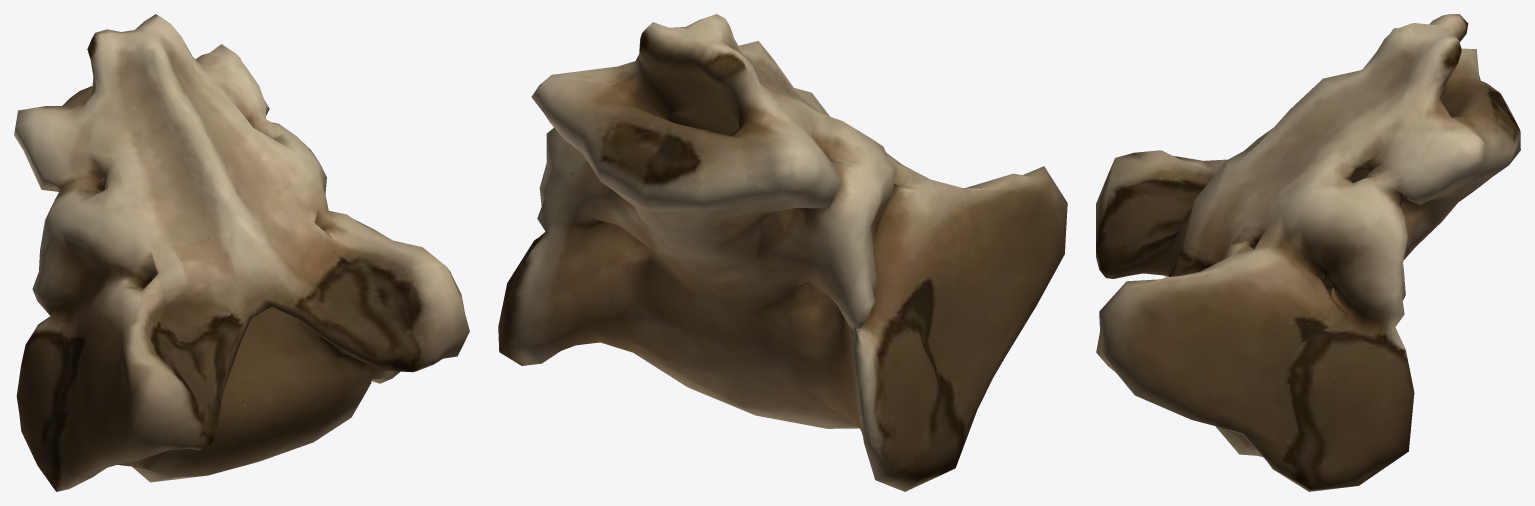
File: Sacrum.glb
3 renders of one model, left to right at view 1: azimuth 30°, elevation 25°; view 2: azimuth 150°, elevation 25°; view 3: azimuth 270°, elevation 25°, orthographic. The views are drawn at different scales.
Parts seen in each view (by area): view 1: Sacrum1:Group53001; view 2: Sacrum1:Group53001; view 3: Sacrum1:Group53001.
Part boxes in pixels (x1,y1,x2,y2): Sacrum1:Group53001: (14,14,469,491); Sacrum1:Group53001: (498,14,1067,491); Sacrum1:Group53001: (1096,14,1520,491).
Size of the model in its own units: 34.26 by 35.94 by 34.19.
Materials: 1 (1 with a texture image).
